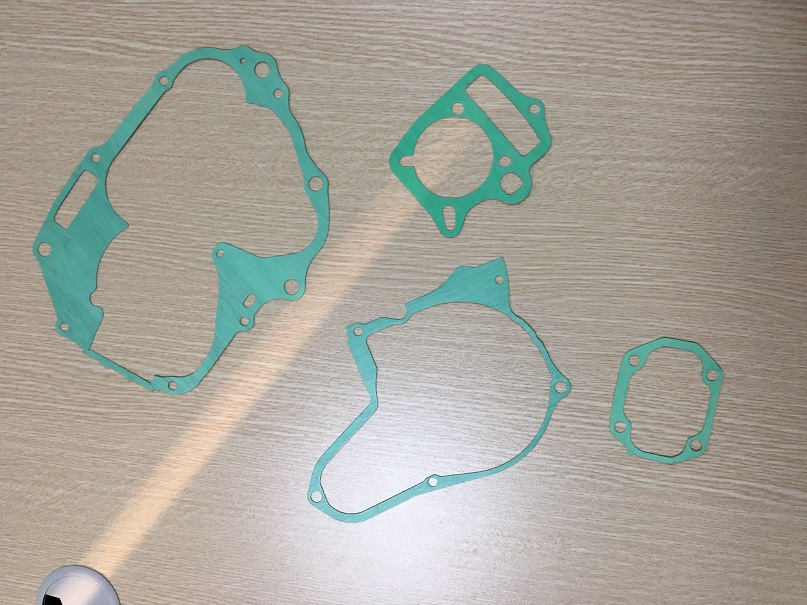type1: (294, 245, 582, 532)
type2: (602, 332, 732, 469)
type3: (21, 42, 345, 404)
type4: (383, 60, 556, 239)
